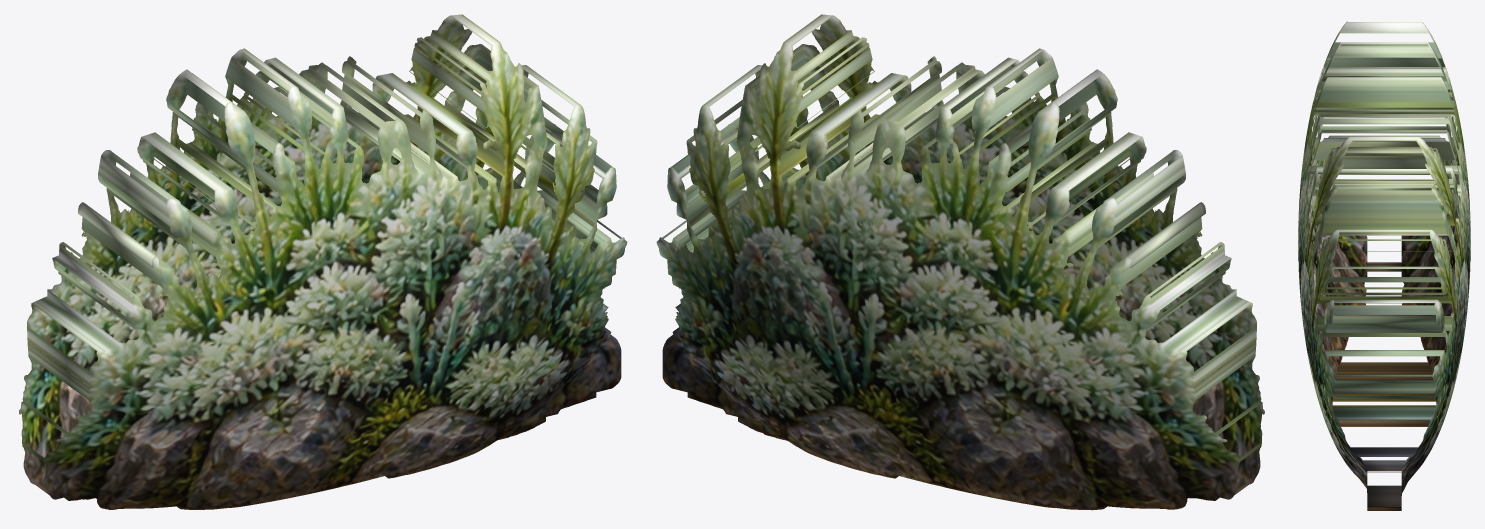
3 views of the same model, side by side, from view 1: azimuth 30°, elevation 25°; view 2: azimuth 150°, elevation 25°; view 3: azimuth 270°, elevation 25° (orthographic). The views are drawn at different scales.
Visible parts, largest first — view 1: organisms:5; view 2: organisms:5; view 3: organisms:5.
Part boxes in pixels (x1=…): organisms:5: x1=19, y1=14, x2=627, y2=509; organisms:5: x1=656, y1=14, x2=1264, y2=510; organisms:5: x1=1298, y1=21, x2=1470, y2=510.
Bounding box in the file's own units: 1.36 × 0.9444 × 0.42.
Materials: 1 (1 with a texture image).
